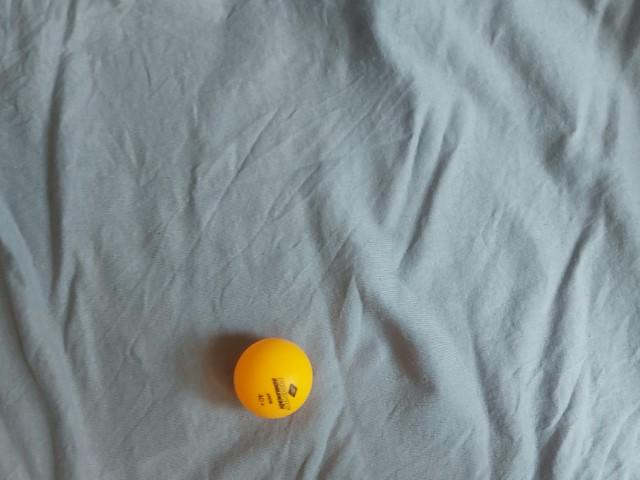oball: (225, 332, 321, 425)
